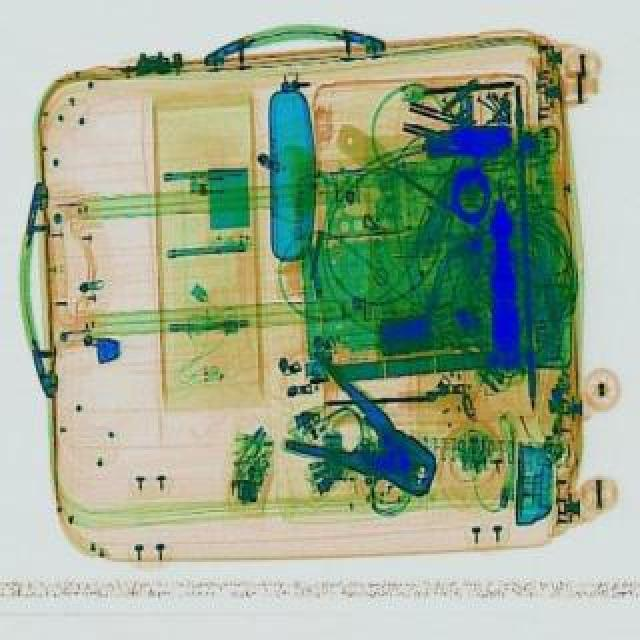wrench: (272, 358, 464, 506)
